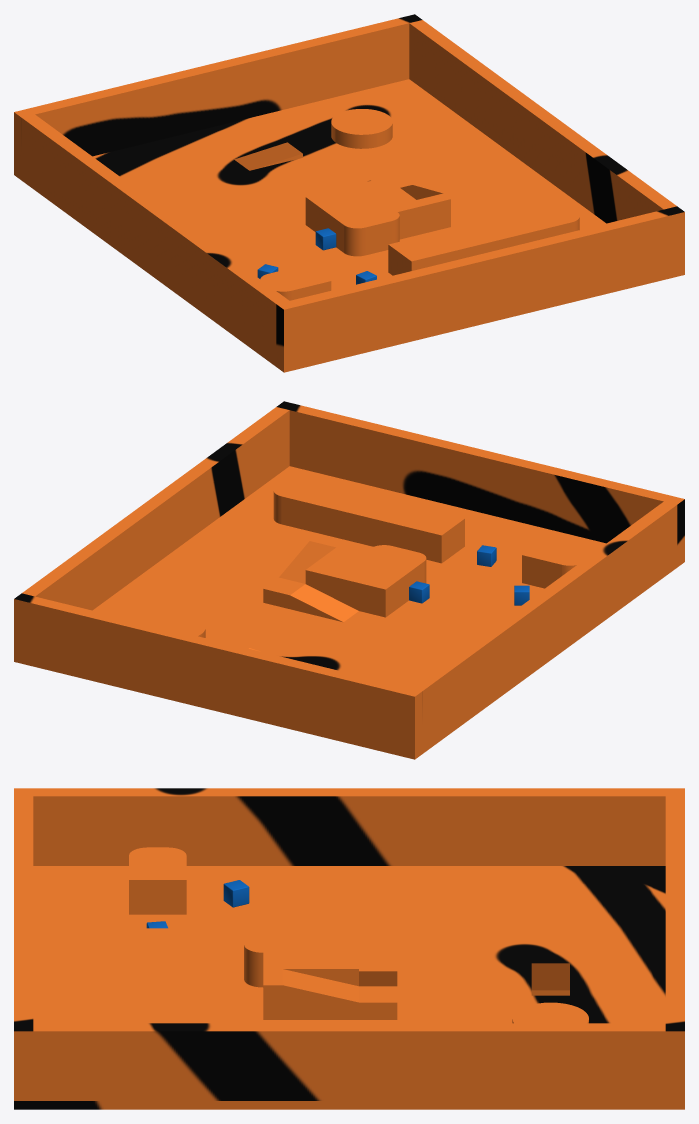
The model's file is 3rdPerson.obj.
The picture shows the model from 3 angles, top to bottom: view 1: azimuth 30°, elevation 25°; view 2: azimuth 150°, elevation 25°; view 3: azimuth 270°, elevation 25°; orthographic projection. The views are drawn at different scales.
Visible parts, largest first — view 1: SM_MERGED_StaticMeshActor_1.003; view 2: SM_MERGED_StaticMeshActor_1.003; view 3: SM_MERGED_StaticMeshActor_1.003.
Part boxes in pixels (left/top/right/bottom): SM_MERGED_StaticMeshActor_1.003: left=14, top=14, right=684, bottom=372; SM_MERGED_StaticMeshActor_1.003: left=14, top=401, right=684, bottom=759; SM_MERGED_StaticMeshActor_1.003: left=14, top=788, right=684, bottom=1109.
Bounding box in the file's own units: 30 × 4.5 × 35.
Materials: 3 (3 with a texture image).
